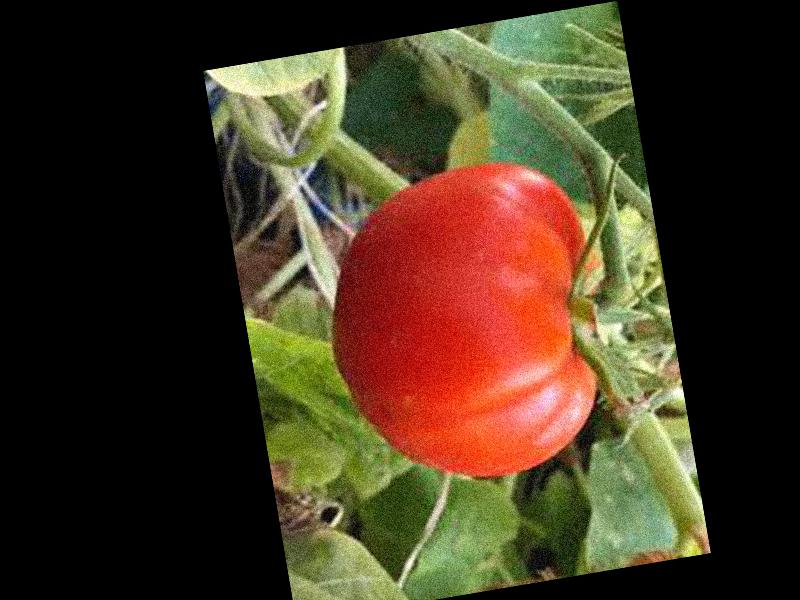Tomato: (309, 147, 620, 499)
